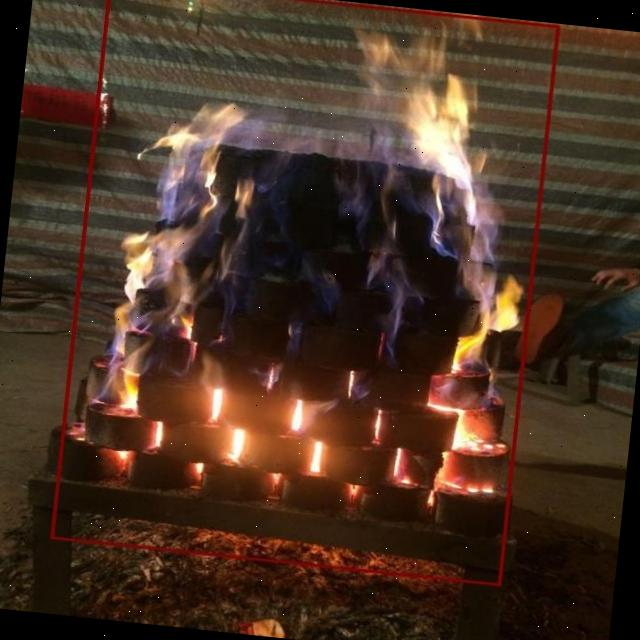fire: (50, 0, 559, 585)
